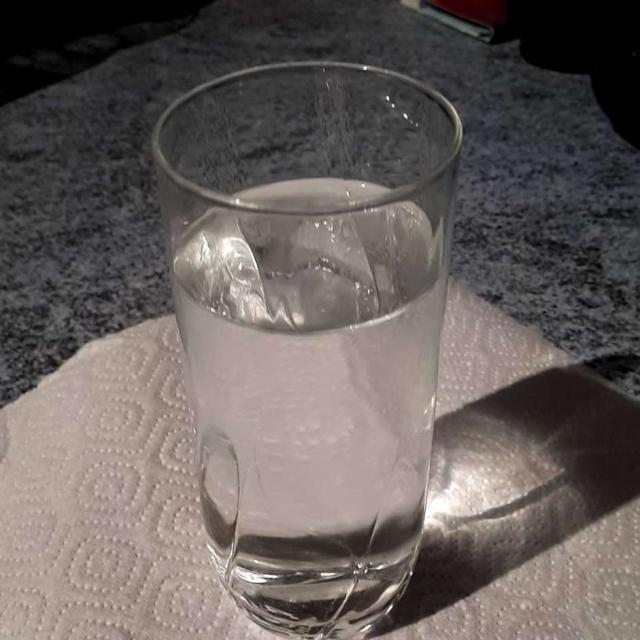water: (179, 171, 429, 596)
